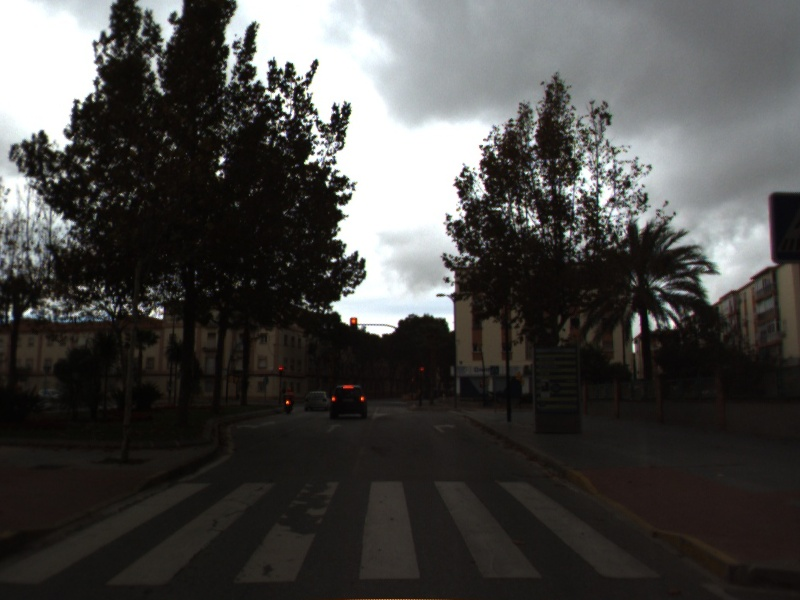RIGHT: (431, 421, 458, 434)
STRAIGHT: (324, 422, 344, 434)
STRAIGHT_LEFT: (234, 419, 278, 431)
